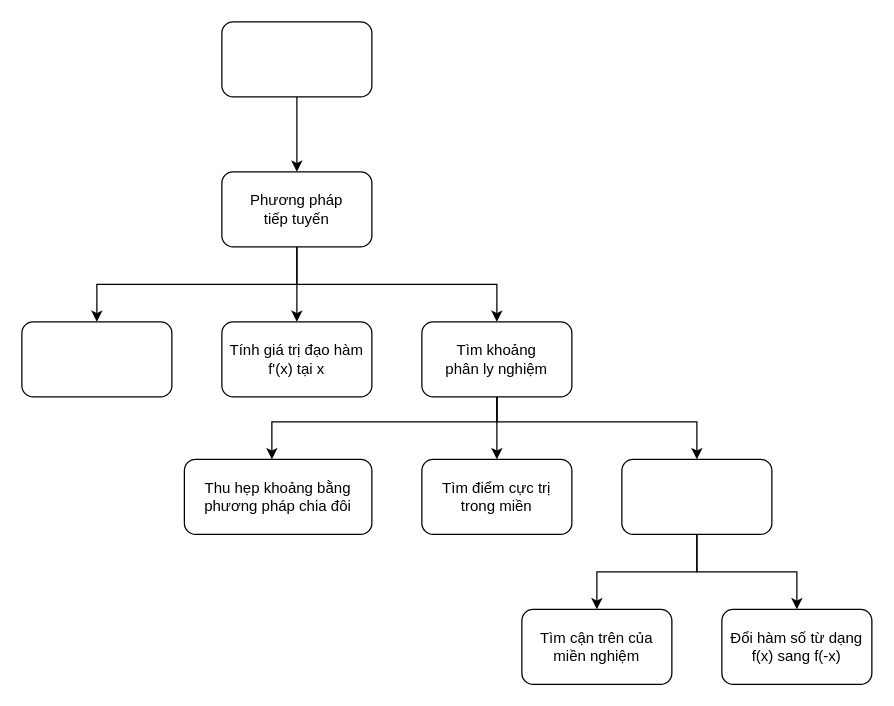
Some shapes in this 894 by 706 pixel diagram are drawn without their labels. The centre of each missing label's shape, as x and y in pixels:
Tìm miền chứa nghiệm: point (696, 496)
Tìm nghiệm phương trình f(x): point (296, 59)
Tính giá trị hàm số f(x) tại x: point (96, 359)
